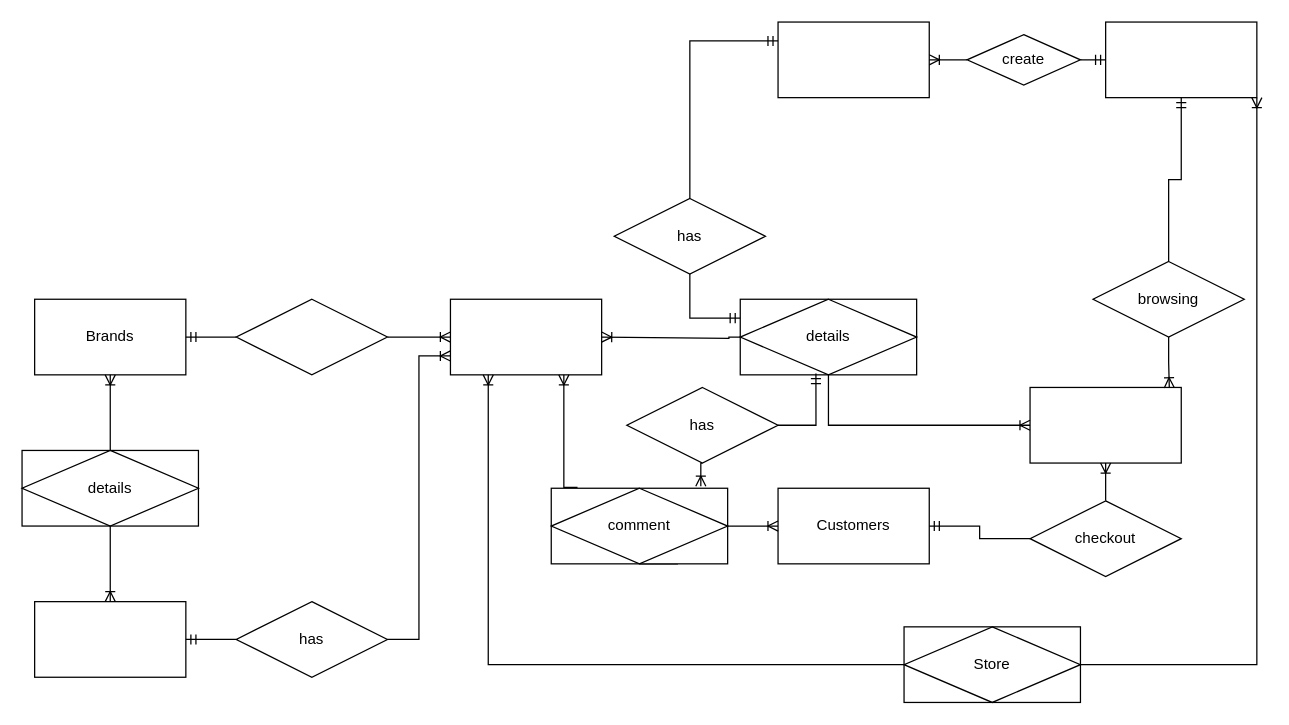
This 1289x725 diagram has some shape labels left out. The box of each missing label's shape, as (x1, y1, x2, y2) in pixels:
Bills: (777, 21, 929, 98)
Carts: (1029, 386, 1181, 463)
Categories: (33, 600, 186, 677)
Employees: (1104, 21, 1257, 98)
produce: (235, 298, 387, 375)
Product_types: (449, 298, 602, 375)
